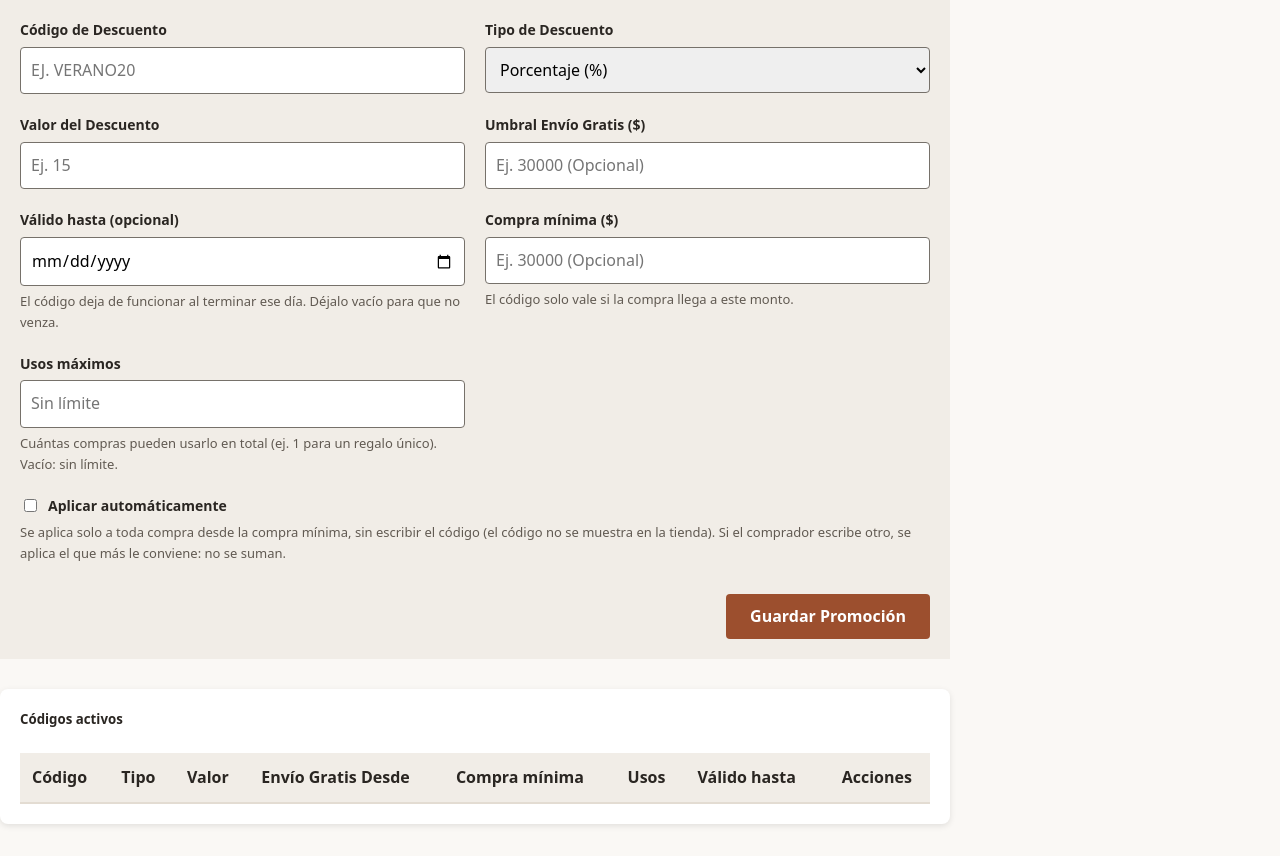
Scenario: GestorPromociones › un código automático con compra mínima se envía con sus campos y sin límite de usos
Step 1. Type "sobre30" into the field labelled "Código de Descuento" → [242, 71], box [20,47,465,94]
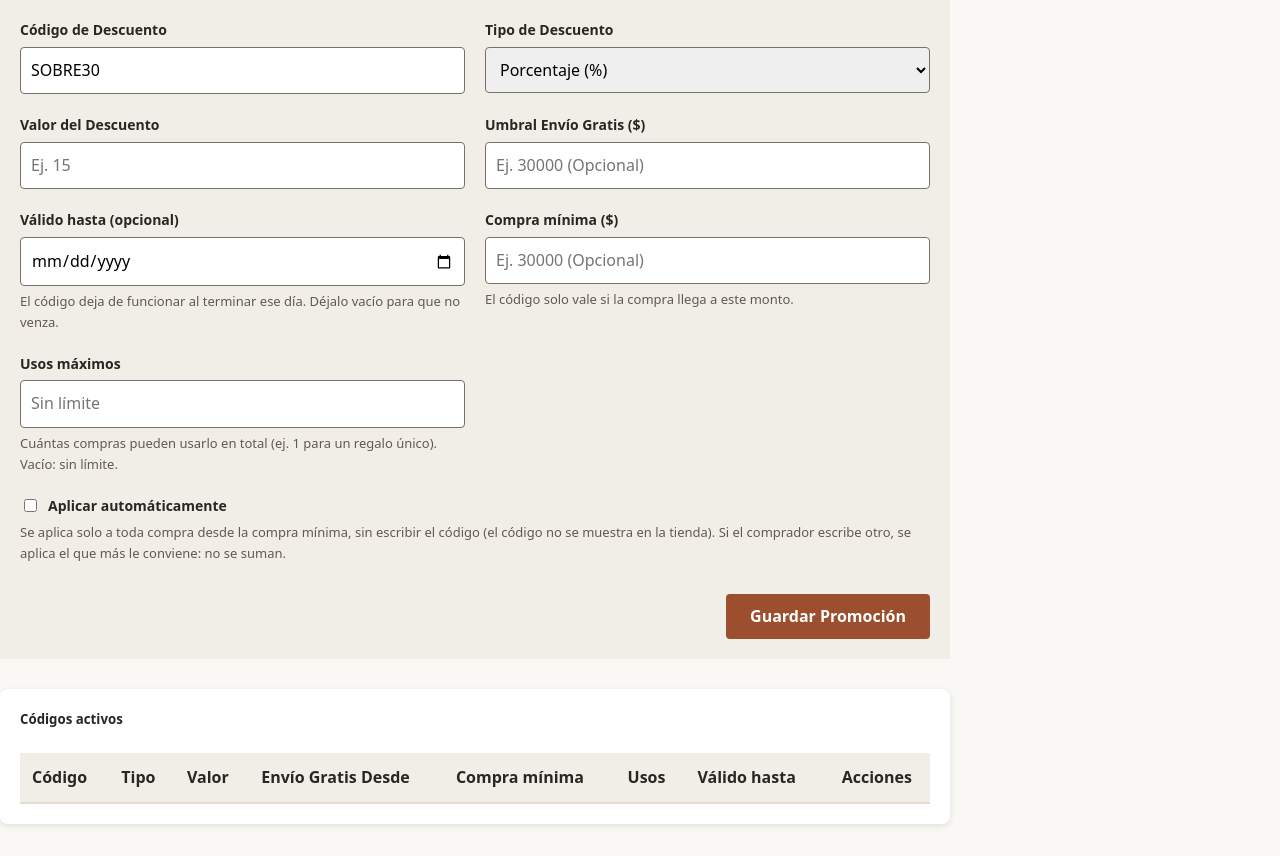
Step 2. Type "10" into the number field labelled "Valor del Descuento" → [242, 166], box [20,142,465,189]
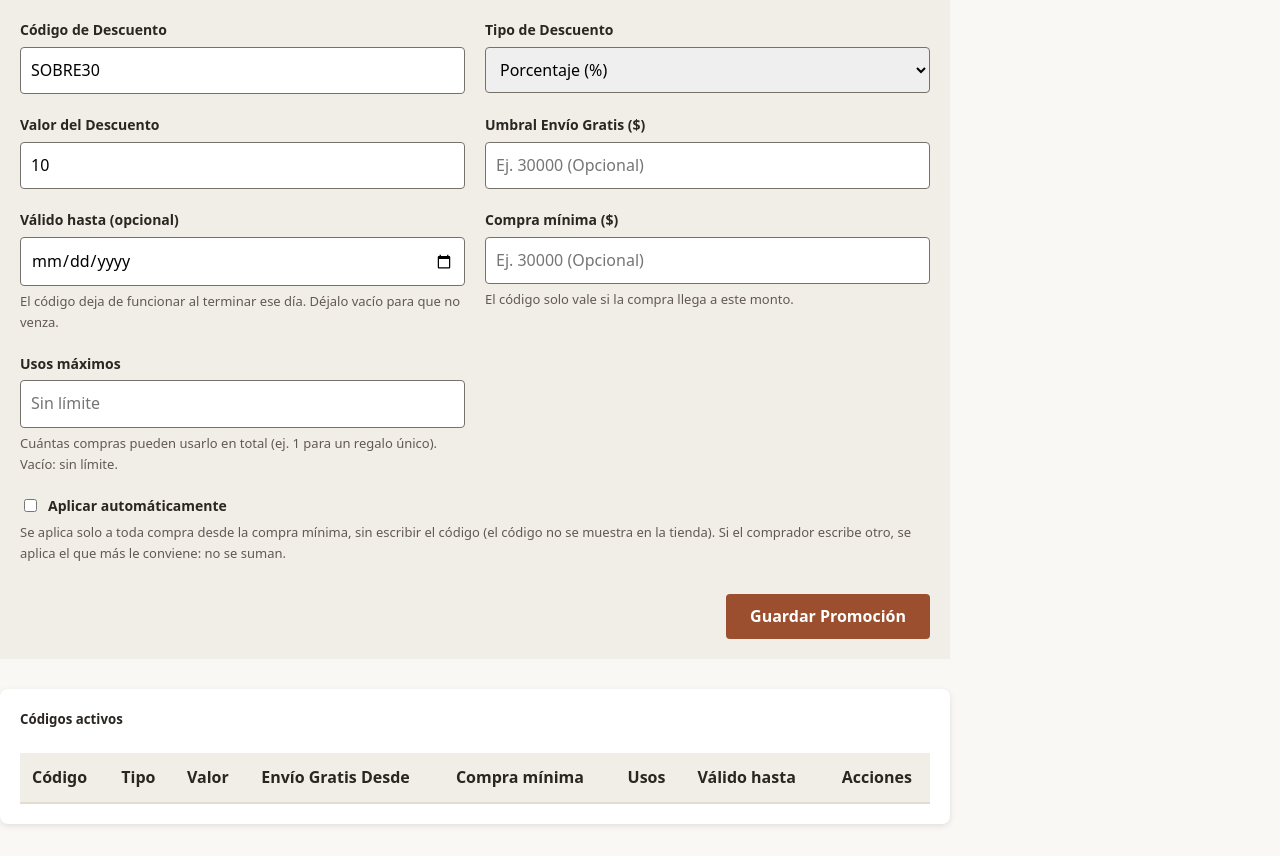
Step 3. Click the checkbox labelled "Aplicar automáticamente" → [30, 506], box [24,499,37,512]
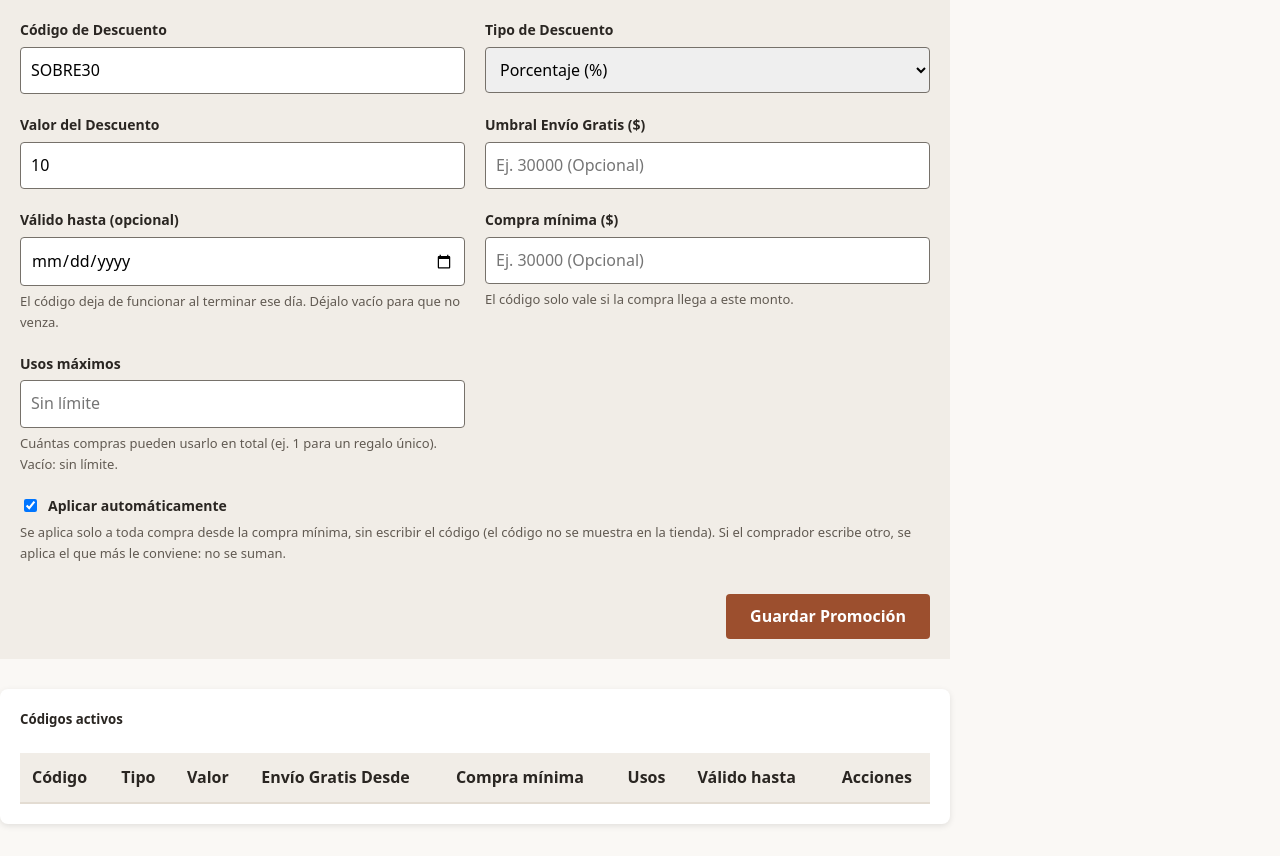
Step 4. Type "30000" into the number field labelled "Compra mínima ($)" → [708, 261], box [485,237,930,284]
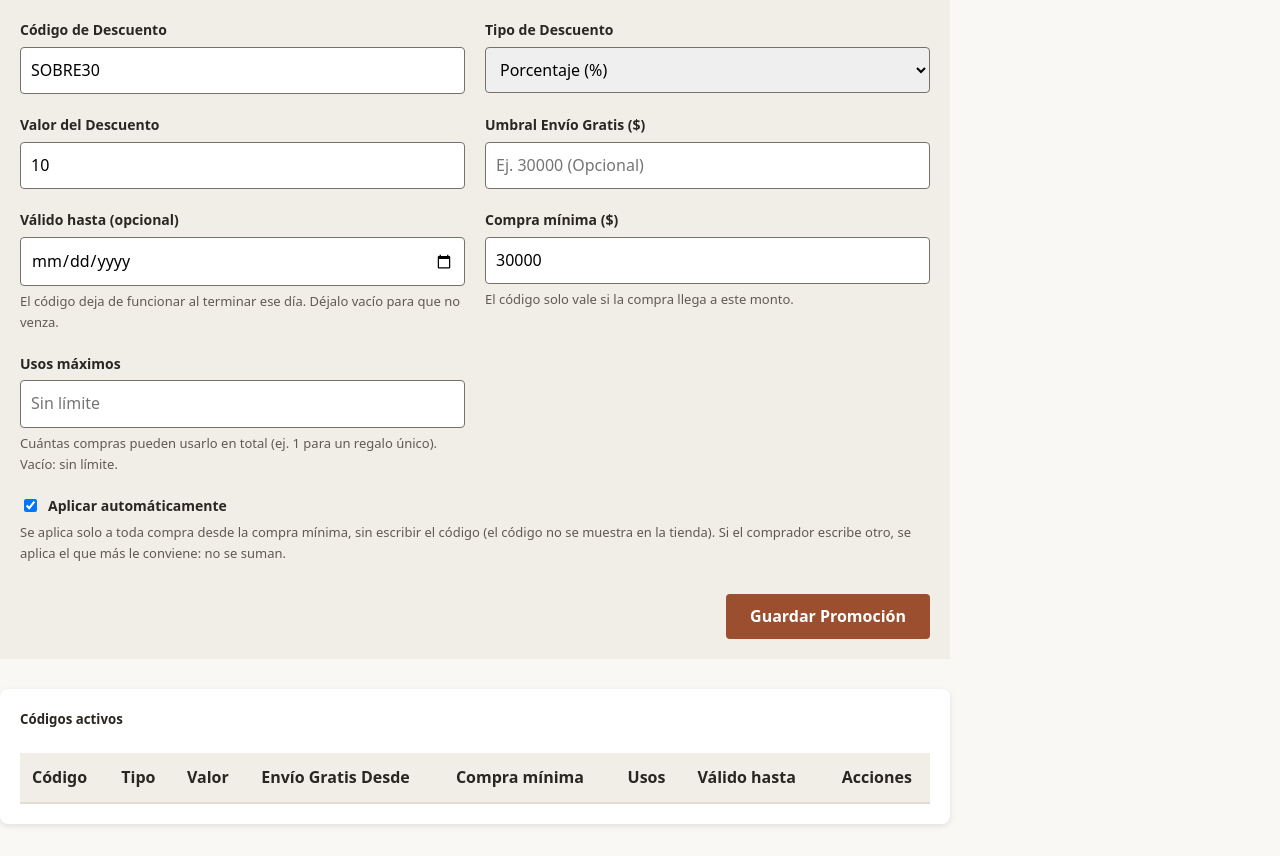
Step 5. Click the button "Guardar Promoción" → [828, 616], box [726,594,930,639]
(page scrolled)
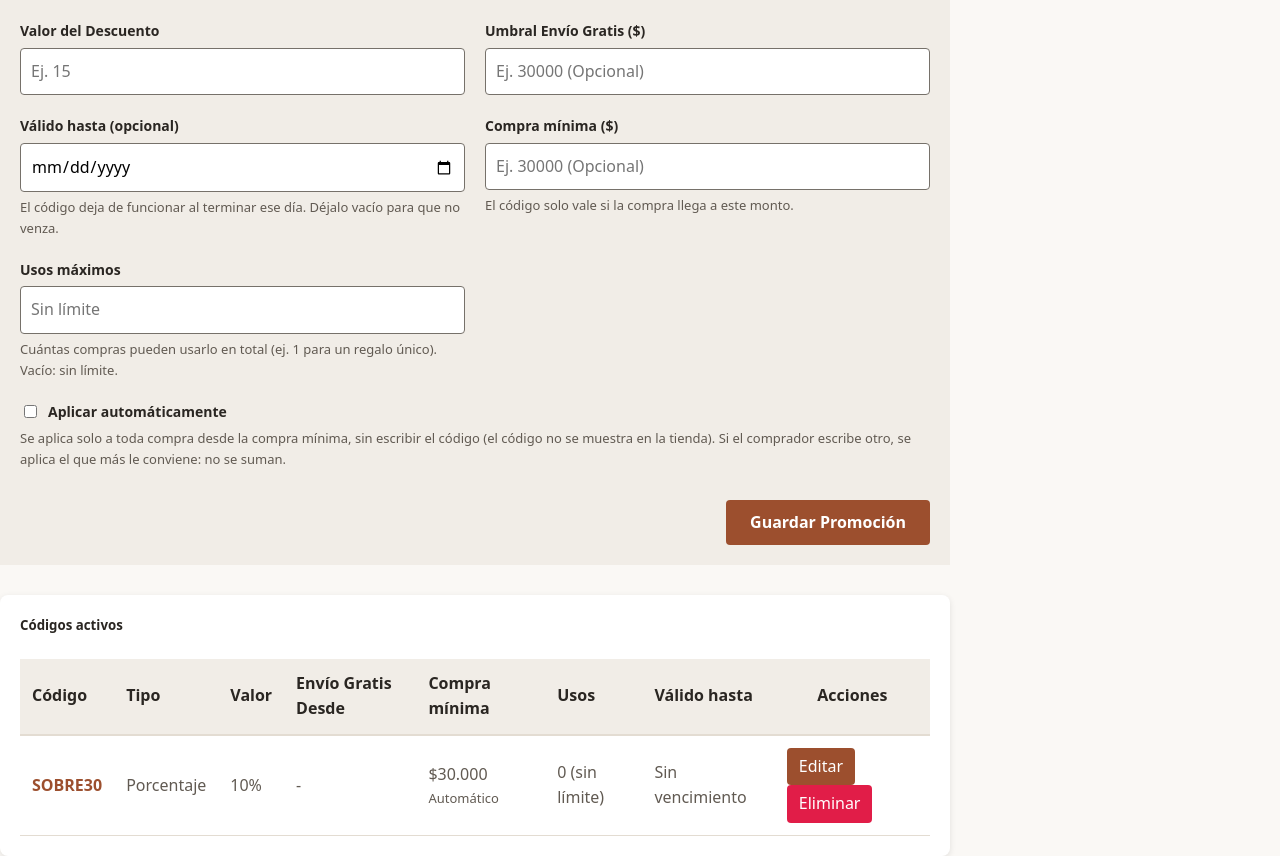
Expected: the text "0 (sin límite)" is shown, [545,735,642,835]
